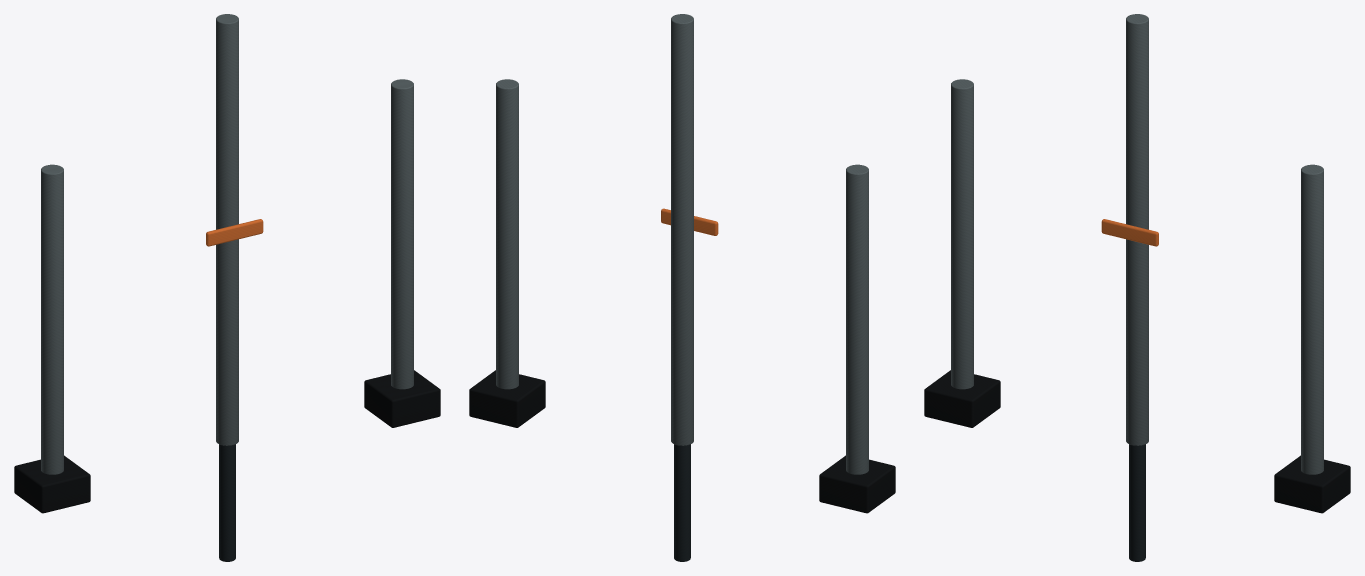
Rendered from HandRailSection.glb.
3 renders of one model, left to right at view 1: azimuth 30°, elevation 25°; view 2: azimuth 150°, elevation 25°; view 3: azimuth 330°, elevation 25°, orthographic.
Parts seen in each view (by area): view 1: HandRailSection_Mesh; view 2: HandRailSection_Mesh; view 3: HandRailSection_Mesh.
Part boxes in pixels (x1,y1,x2,y2): HandRailSection_Mesh: (14,14,440,561); HandRailSection_Mesh: (469,14,895,561); HandRailSection_Mesh: (924,14,1350,561).
Size of the model in its own units: 1.78 by 2.3 by 0.22.
Materials: 4 (4 with a texture image).
